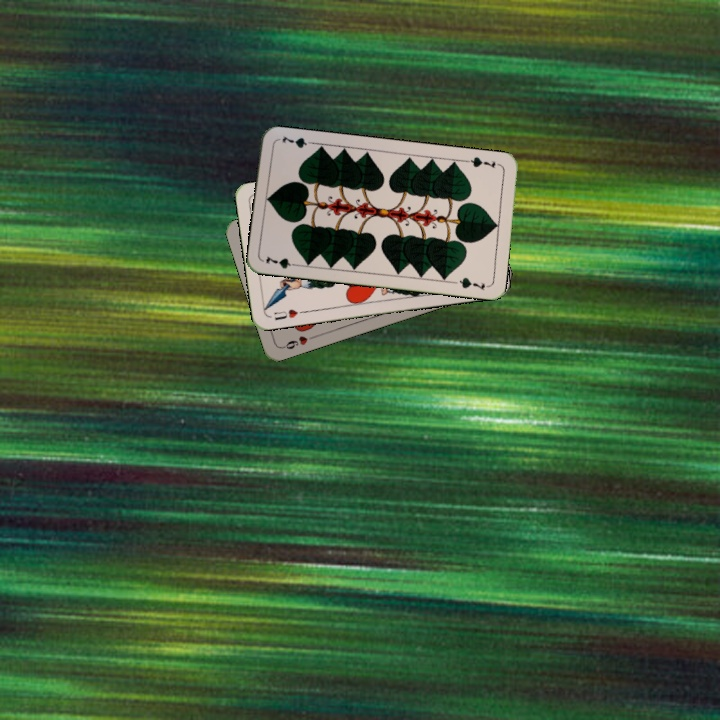G7: (262, 252, 302, 271), (463, 153, 498, 171)
H9: (278, 331, 318, 352)
HU: (270, 305, 307, 323)
